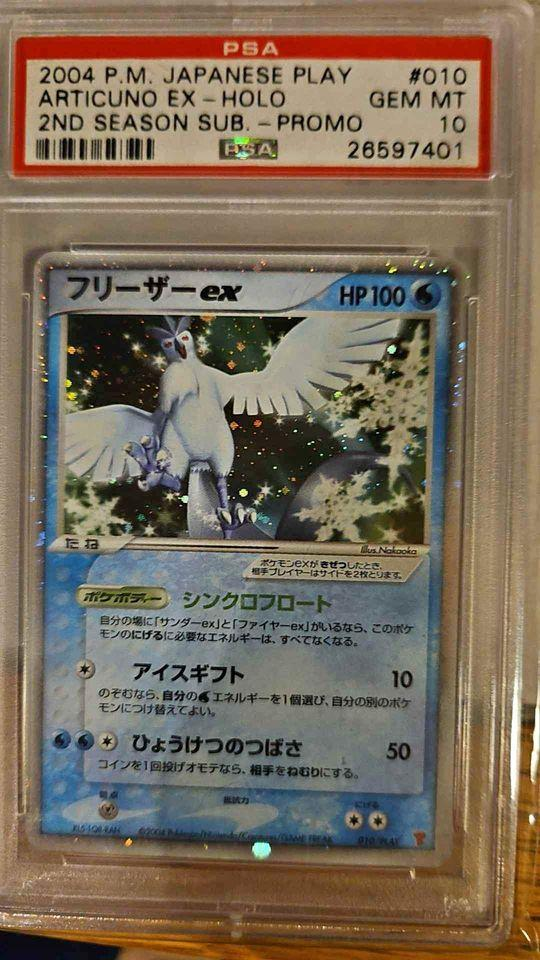card: (24, 250, 471, 868)
